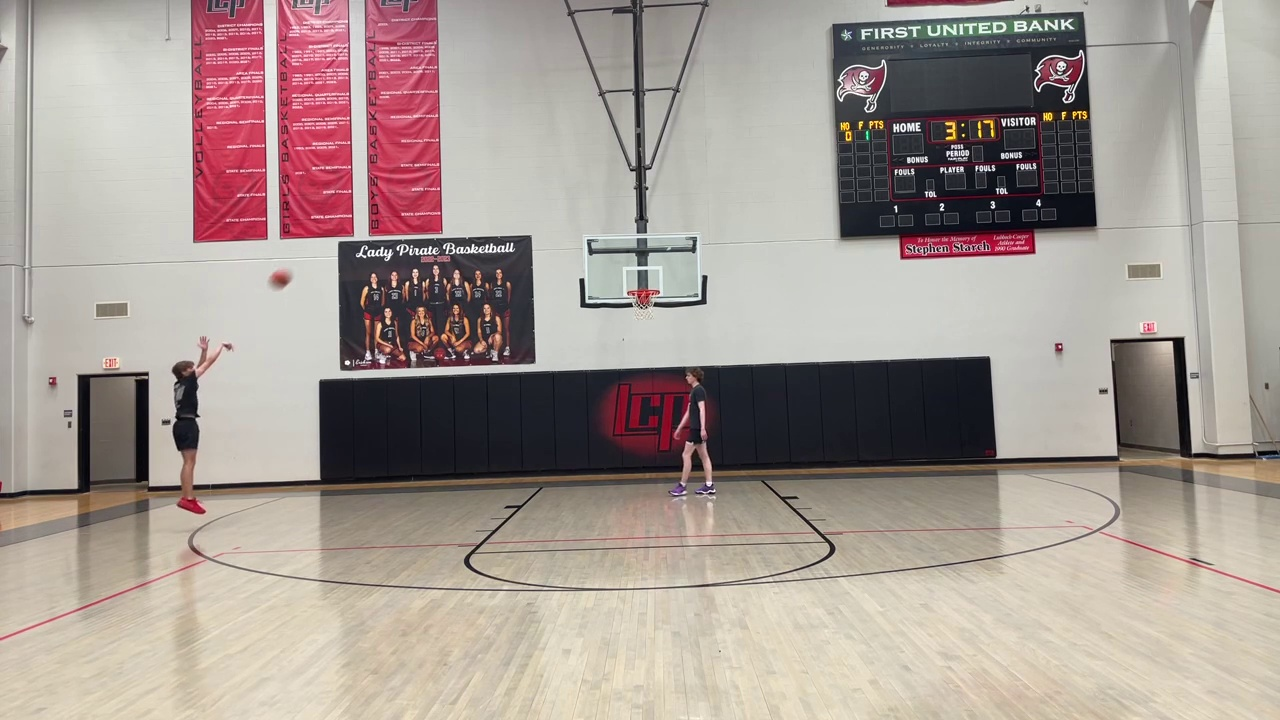shooting player: (168, 335, 233, 515)
